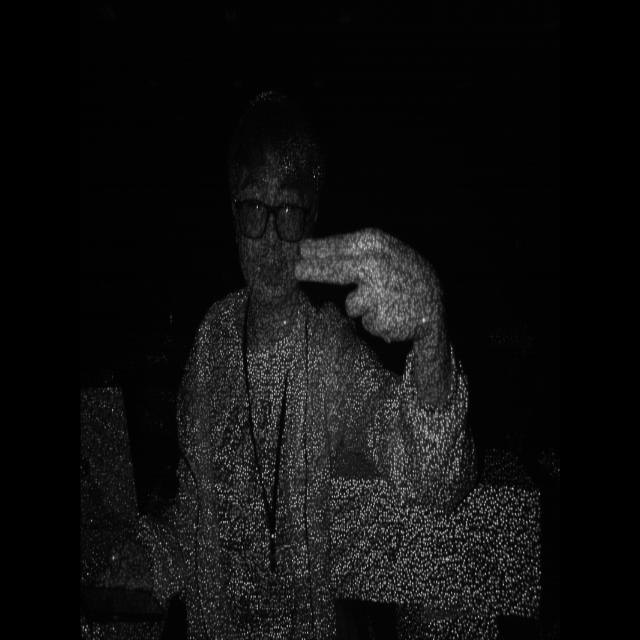H: (287, 213, 460, 389)
